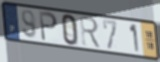0: (61, 13, 79, 47)
1: (128, 23, 140, 54)
7: (102, 18, 118, 51)
9: (20, 9, 38, 40)
P: (38, 10, 59, 43)
R: (78, 15, 102, 50)
